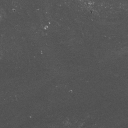corrosion: (43, 25, 49, 30)
